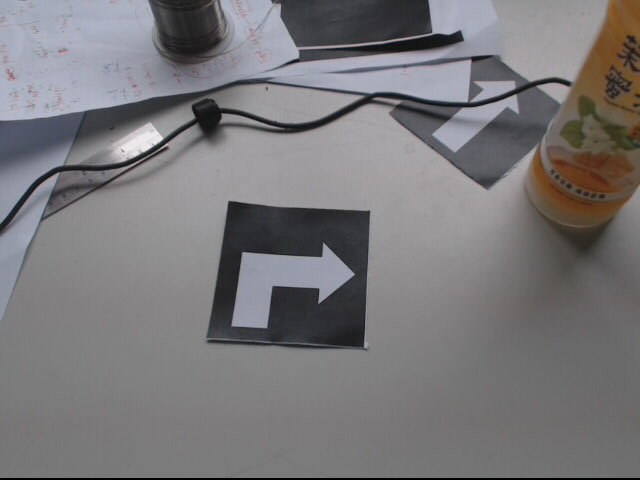right: (207, 200, 372, 350)
